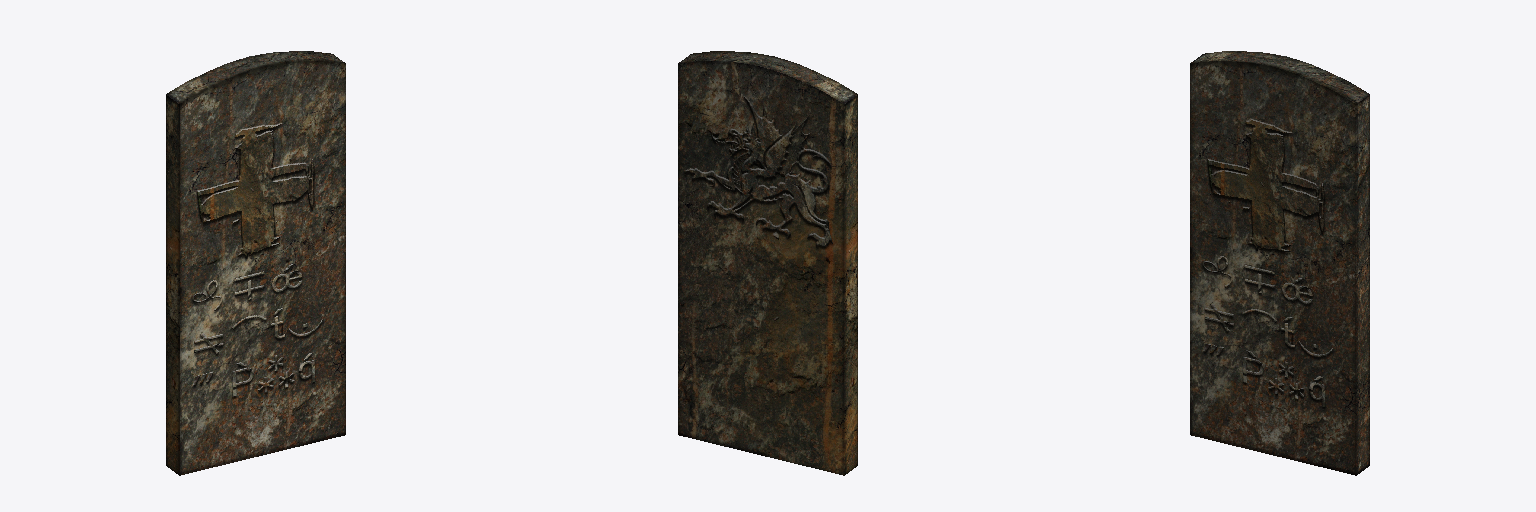
3 renders of one model, left to right at view 1: azimuth 30°, elevation 25°; view 2: azimuth 150°, elevation 25°; view 3: azimuth 330°, elevation 25°, orthographic.
Parts seen in each view (by area): view 1: Mezar; view 2: Mezar; view 3: Mezar.
Boxes of the visible parts, box(x1,y1,x2,y2) form: Mezar: box(166, 51, 345, 475); Mezar: box(678, 51, 857, 475); Mezar: box(1190, 51, 1369, 475).
Size of the model in its own units: 7 by 15.6 by 1.
1 materials, 1 textured.